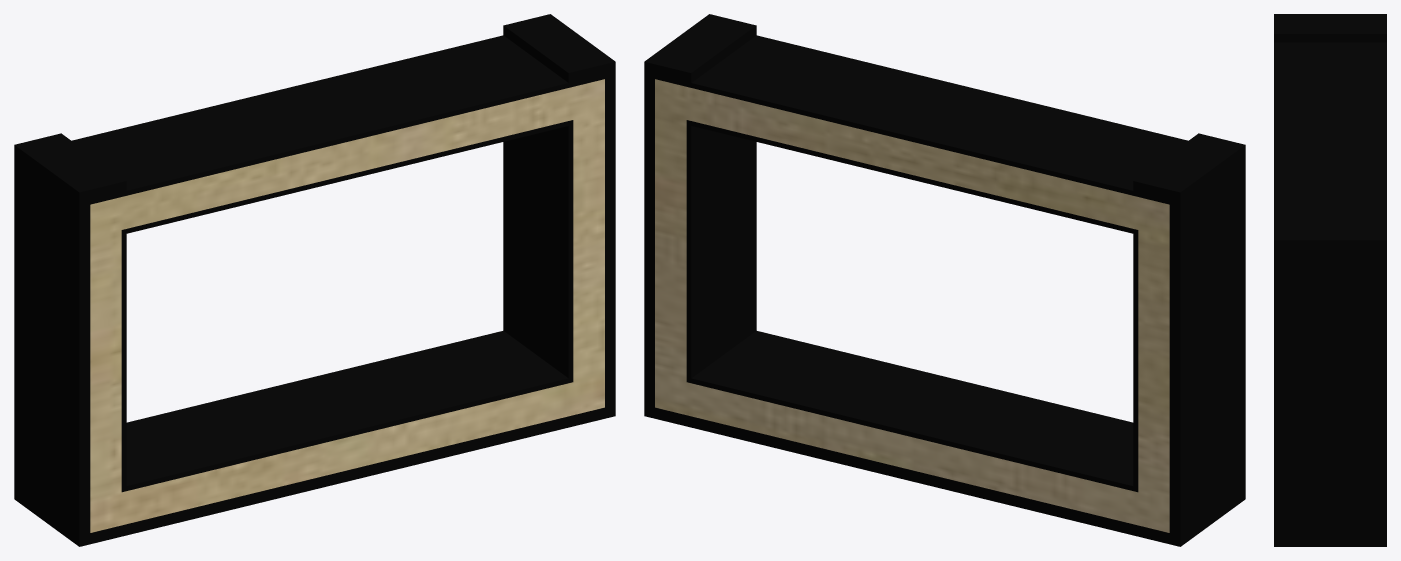
3 renders of one model, left to right at view 1: azimuth 30°, elevation 25°; view 2: azimuth 150°, elevation 25°; view 3: azimuth 270°, elevation 25°, orthographic. The views are drawn at different scales.
Visible parts, largest first — view 1: E-4; view 2: E-4; view 3: E-4.
Boxes of the visible parts, left/top/right/bottom form: E-4: left=14, top=14, right=615, bottom=546; E-4: left=644, top=14, right=1245, bottom=546; E-4: left=1274, top=14, right=1386, bottom=546.
Size of the model in its own units: 5.7 by 3.6 by 1.2.
2 materials, 1 textured.
